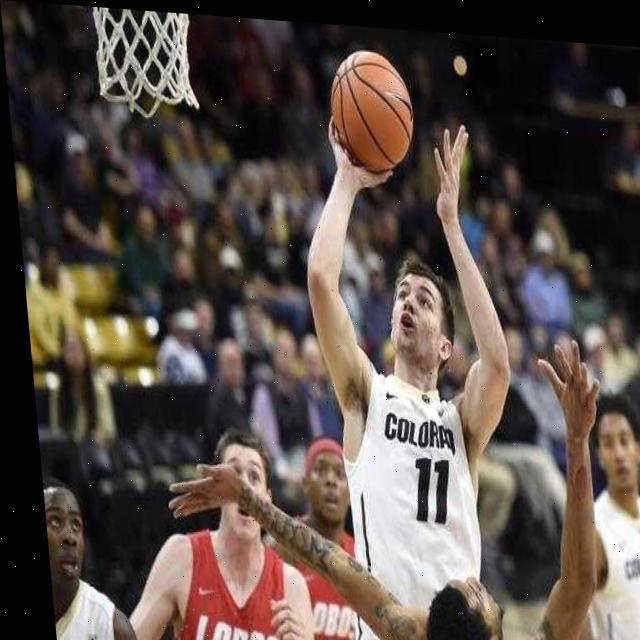basketball: (324, 44, 420, 177)
hoop: (90, 7, 204, 126)
